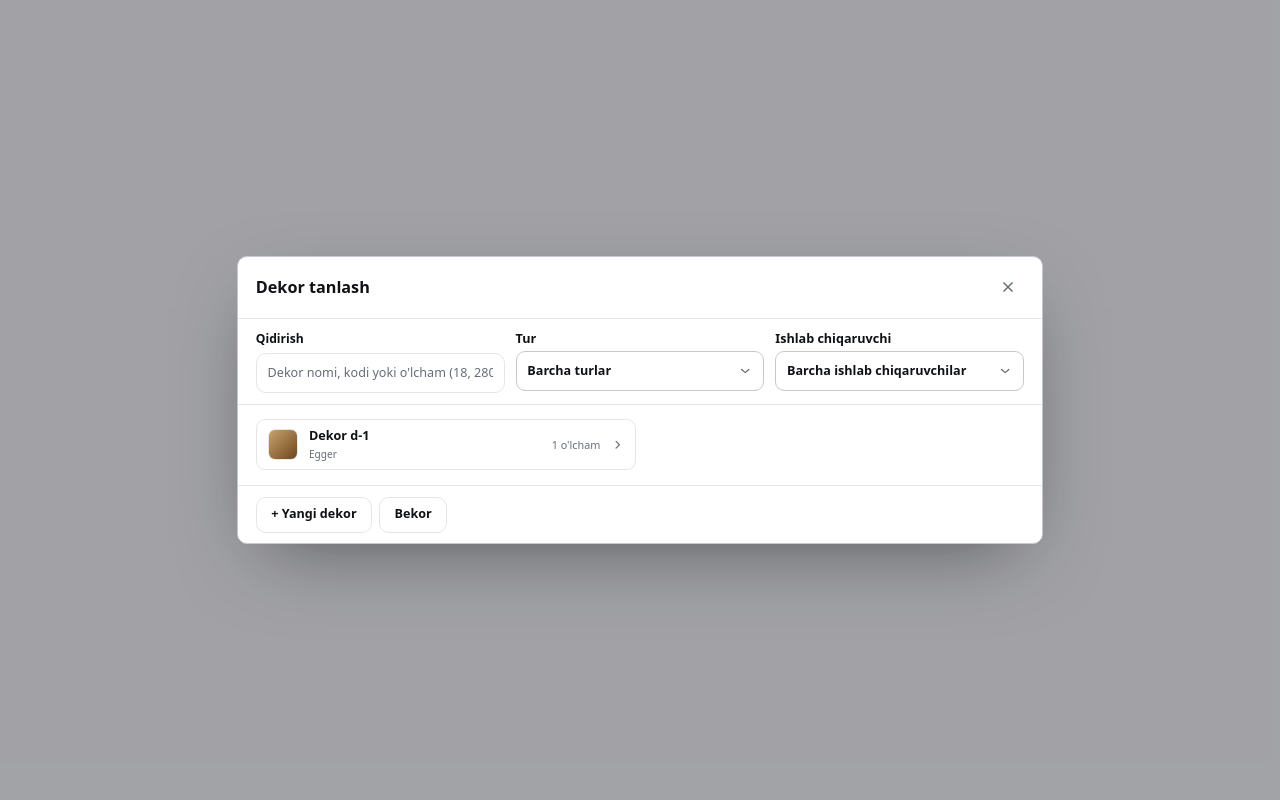
Test case: BranchMaterialAttachSheet — the door to «Yangi dekor» › opens the create form from the footer, carrying the typed query
The width and height of the screenshot is (1280, 800).
What coordinates should you click on to do the following:
click the button "+ Yangi dekor"
I would click on:
 (314, 514)
Its box is [256, 496, 372, 532].
(page scrolled)
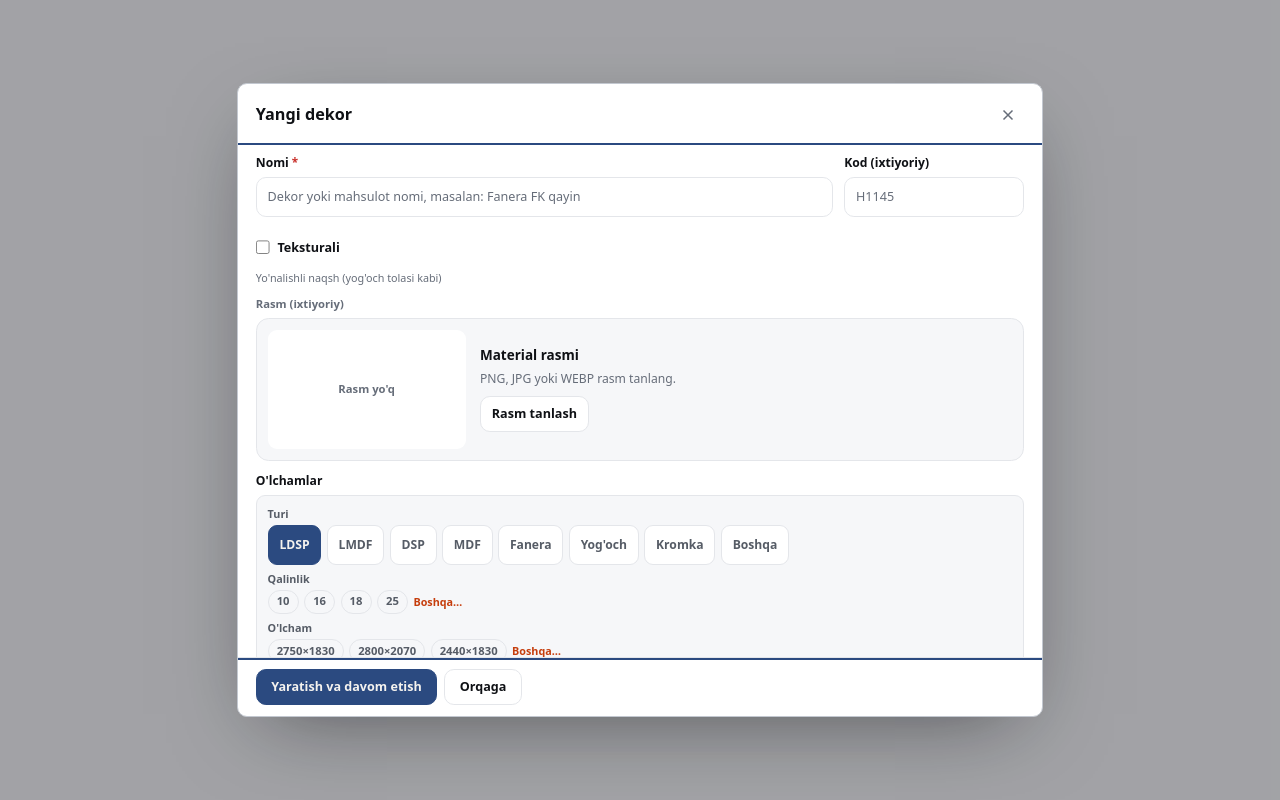
Check: the text "Yangi dekor" is shown, box [256, 102, 352, 127]
Check: the form is shown, box [256, 146, 1024, 657]
